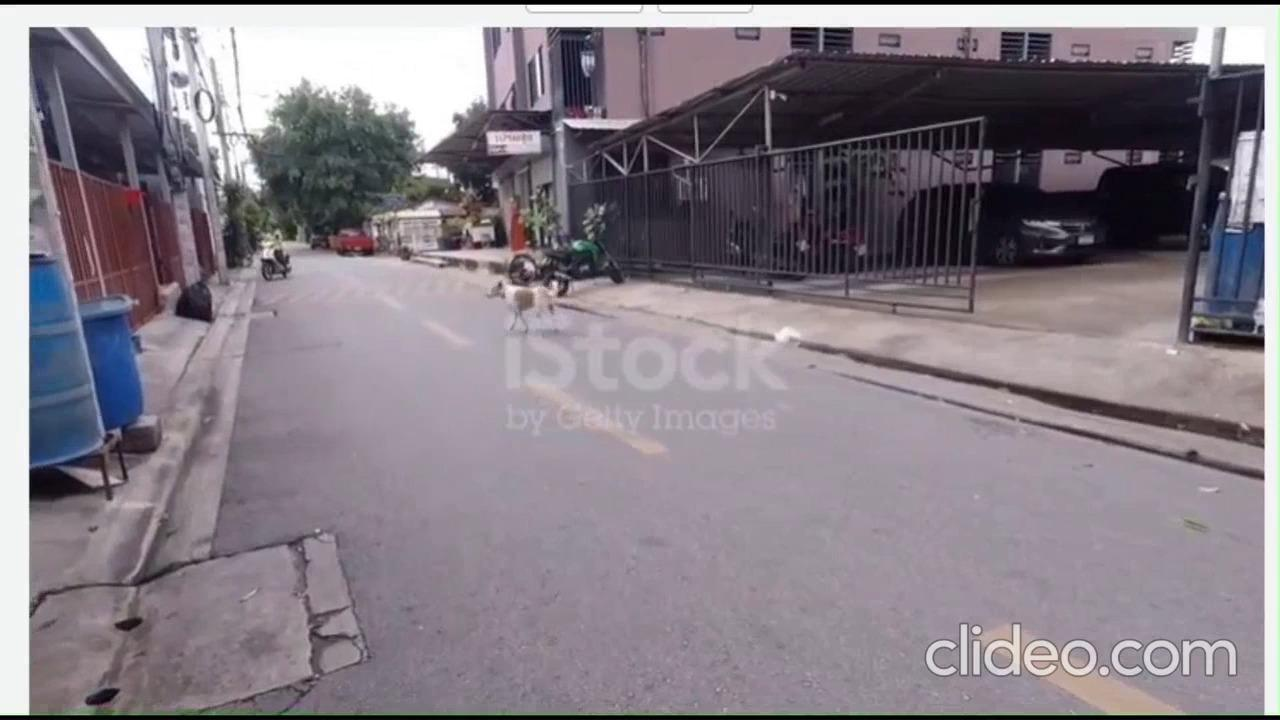dog: (486, 273, 568, 345)
